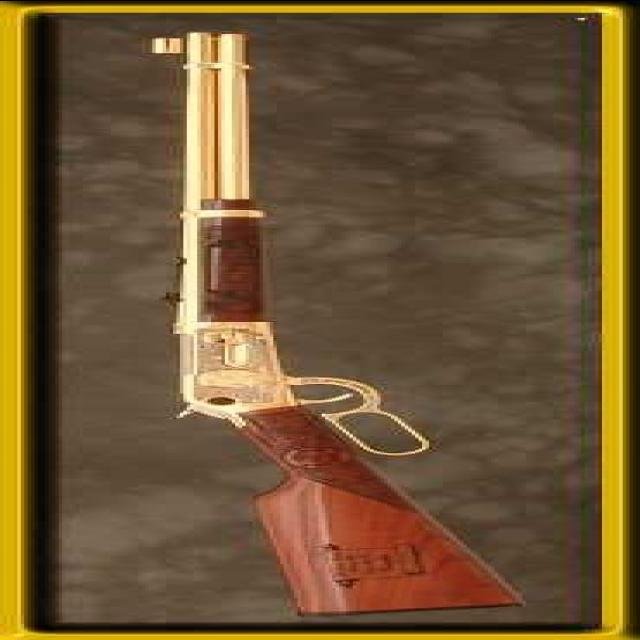heavyweapon: (77, 24, 551, 628)
